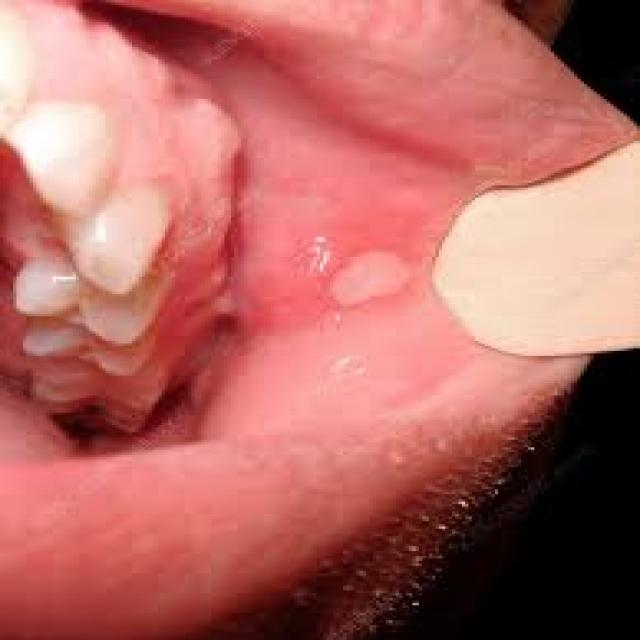processing_area: (133, 6, 617, 467)
ulcer-detection: (268, 216, 428, 348)
